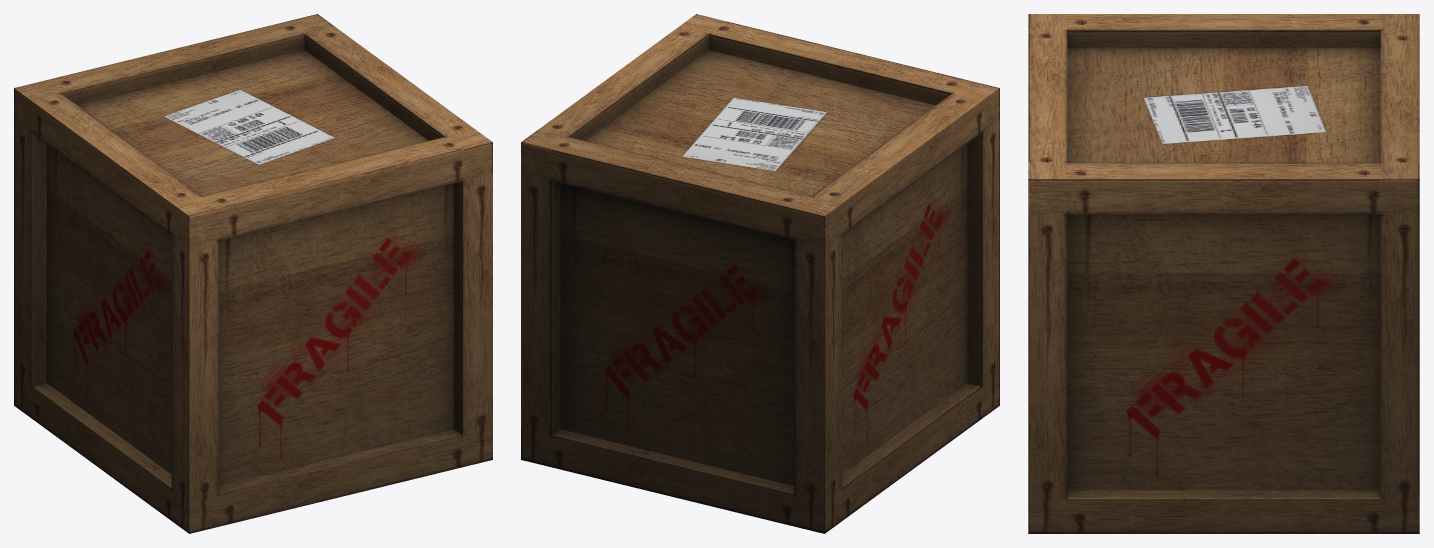
File: Crate.fbx
3 renders of one model, left to right at view 1: azimuth 30°, elevation 25°; view 2: azimuth 150°, elevation 25°; view 3: azimuth 270°, elevation 25°, orthographic. The views are drawn at different scales.
Parts seen in each view (by area): view 1: Ctate_Geometry; view 2: Ctate_Geometry; view 3: Ctate_Geometry.
Part boxes in pixels (x1,y1,x2,y2): Ctate_Geometry: (14,14,492,533); Ctate_Geometry: (521,14,999,533); Ctate_Geometry: (1028,14,1419,533).
Size of the model in its own units: 1 by 1 by 1.
